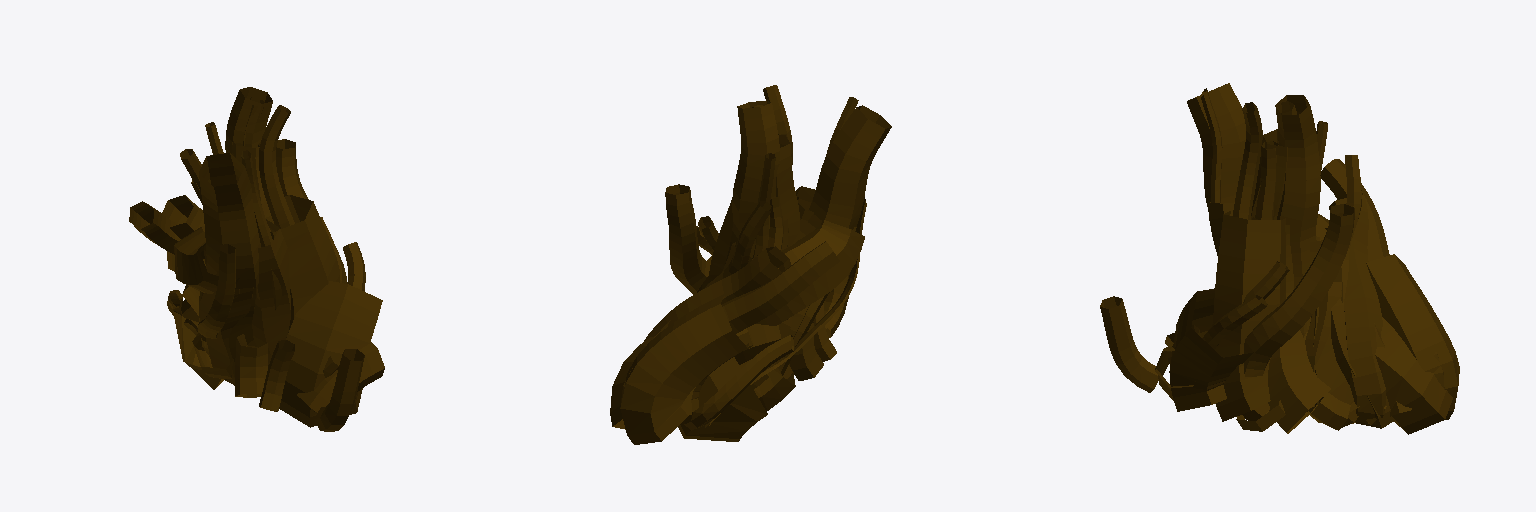
File: flame.obj
3 renders of one model, left to right at view 1: azimuth 30°, elevation 25°; view 2: azimuth 150°, elevation 25°; view 3: azimuth 270°, elevation 25°, orthographic.
Bounding box in the file's own units: 0.3784 × 0.5772 × 0.5927.